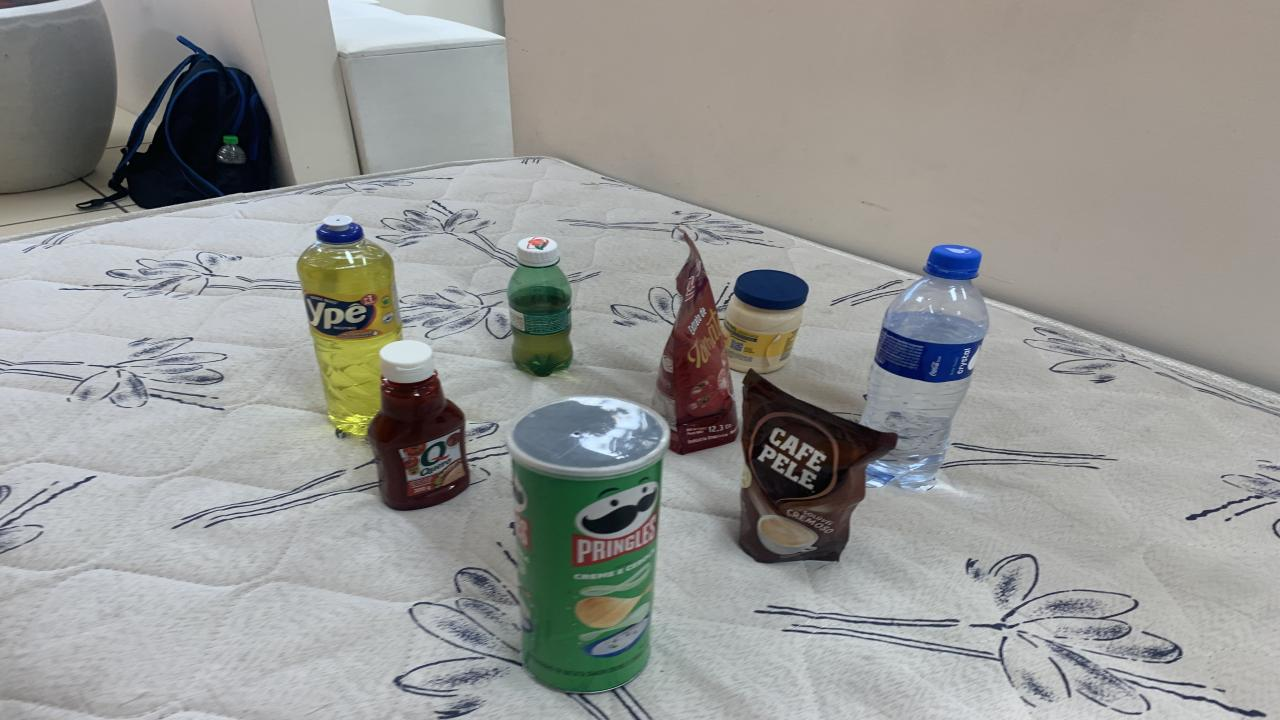Coffee-Pantry_Items: (740, 373, 898, 562)
Detergent-Cleanup_Items: (298, 214, 402, 435)
Guarana-Drinks: (368, 339, 470, 510), (508, 236, 572, 377), (402, 437, 408, 441)
Ketchup-Pantry_Items: (368, 339, 470, 510)
Mayonnaise-Pantry_Items: (725, 270, 810, 373)
Pringles-Snacks: (508, 396, 670, 694)
Tomato_Sauce-Pantry_Items: (652, 227, 738, 454)
Water_Bottle-Drinks: (860, 246, 990, 491)
